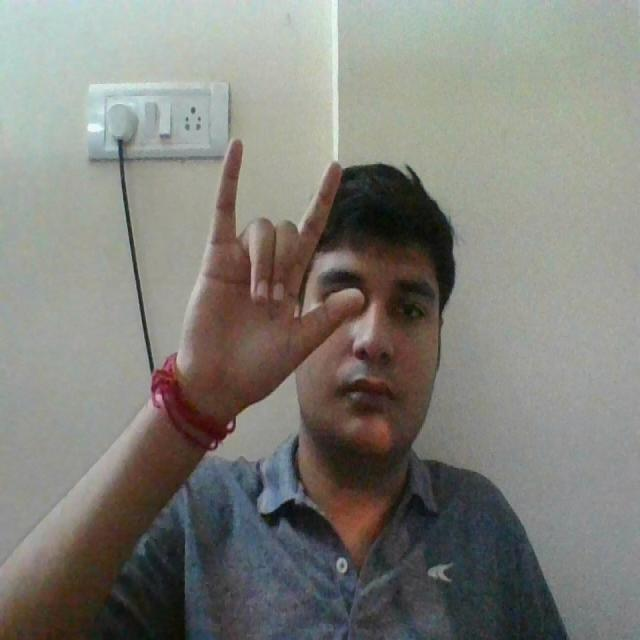I love you: (187, 136, 371, 427)
